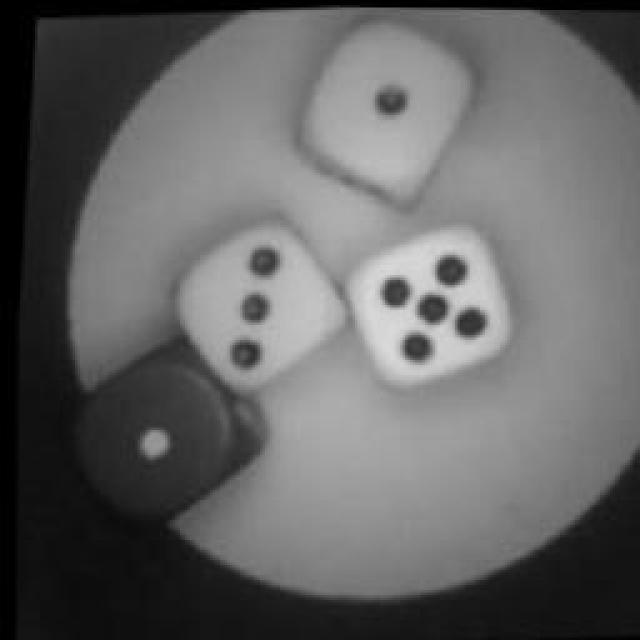dice_1: (276, 3, 479, 205), (64, 338, 258, 522)
dice_3: (164, 224, 344, 378)
dice_5: (336, 218, 512, 388)
